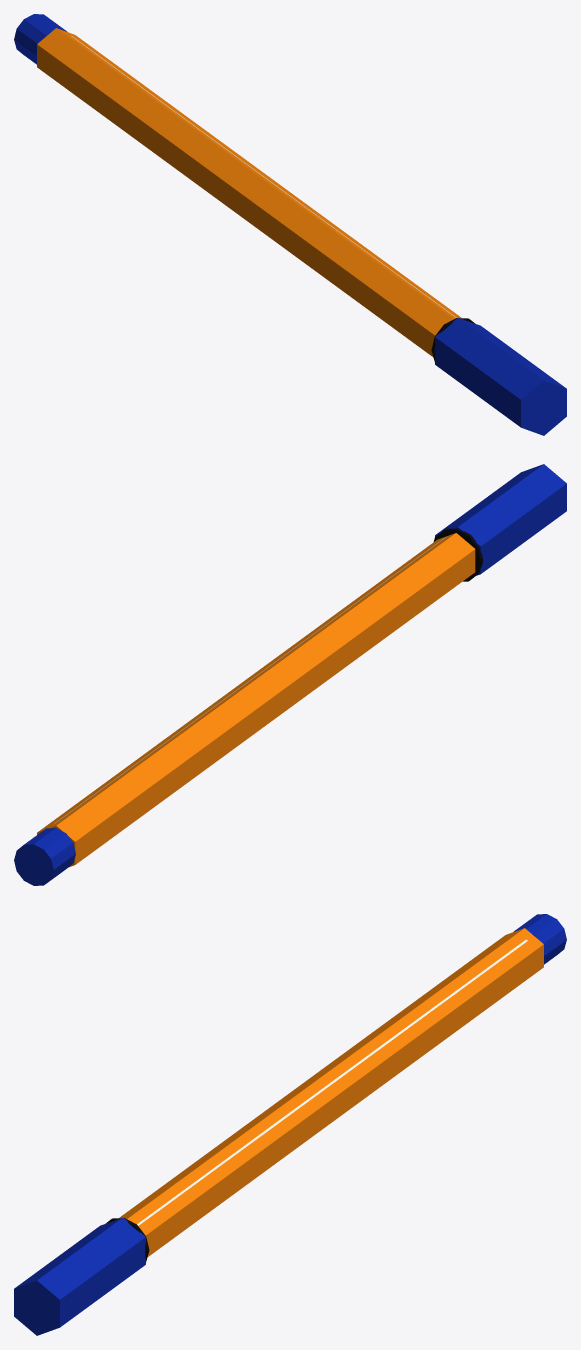
Rendered from Stabilo-point88-blue-approx.obj.
3 renders of one model, top to bottom at view 1: azimuth 30°, elevation 25°; view 2: azimuth 150°, elevation 25°; view 3: azimuth 330°, elevation 25°, orthographic.
Visible parts, largest first — view 1: orange_hex_barrel, long_blue_cap, blue_tail; view 2: orange_hex_barrel, long_blue_cap, blue_tail, black_cap_seam; view 3: orange_hex_barrel, long_blue_cap, white_barrel_stripes, blue_tail.
Part boxes in pixels (<box>): orange_hex_barrel: <box>37,28,461,357</box>; long_blue_cap: <box>435,317,566,435</box>; blue_tail: <box>14,14,67,64</box>; orange_hex_barrel: <box>37,533,475,867</box>; long_blue_cap: <box>435,464,566,575</box>; blue_tail: <box>14,828,75,885</box>; black_cap_seam: <box>433,528,483,581</box>; orange_hex_barrel: <box>119,928,543,1257</box>; long_blue_cap: <box>14,1217,145,1335</box>; white_barrel_stripes: <box>137,939,527,1225</box>; blue_tail: <box>513,914,566,964</box>.
Bounding box in the file's own units: 0.009 × 0.0096 × 0.16.
